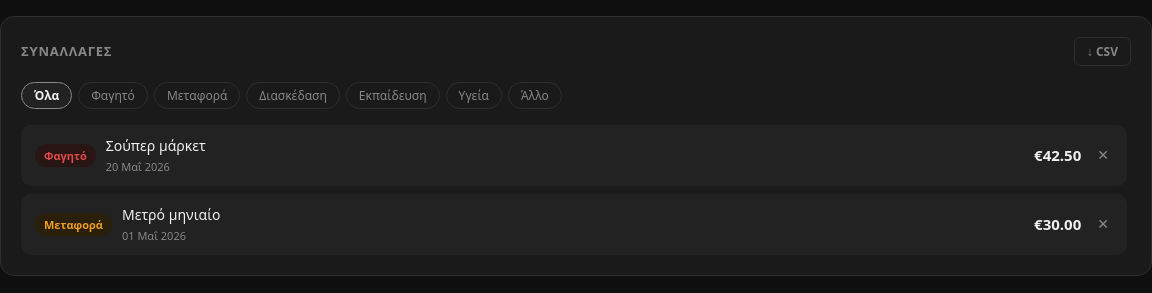
it: ExpenseList — category filter › filtering by category shows only matching expenses
The image size is (1152, 293).
Step 1. Click the button "Φαγητό" → click(113, 96), box [78,82,148,109]
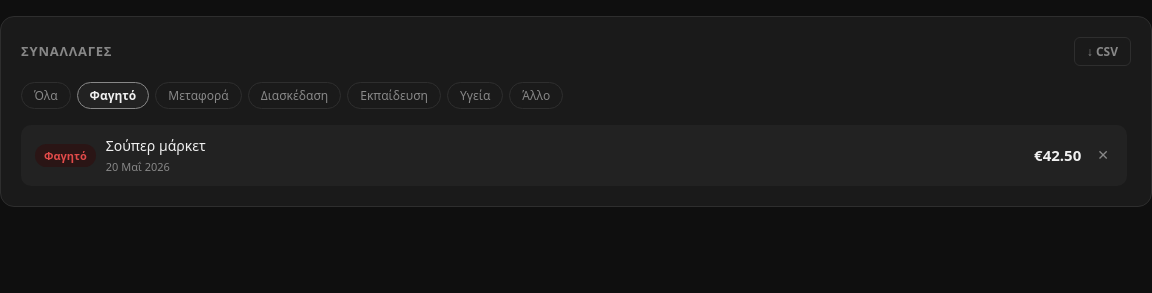
Expected: the text "Σούπερ μάρκετ" is shown, [106,135,206,157]
Now the text "Μετρό μηνιαίο" is gone
